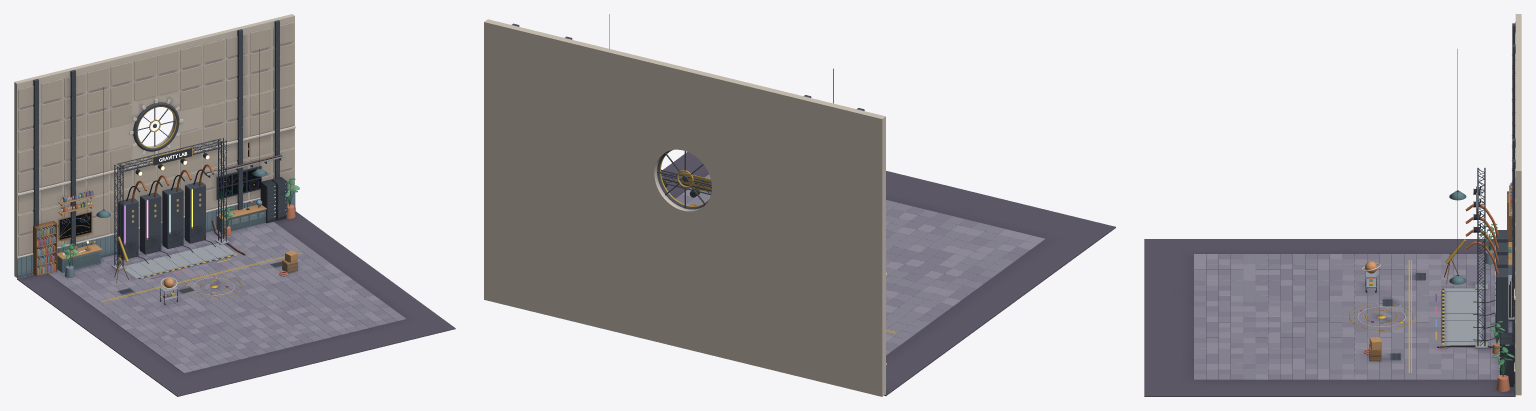
The model's file is gravity-lab.glb.
The picture shows the model from 3 angles, left to right: view 1: azimuth 30°, elevation 25°; view 2: azimuth 150°, elevation 25°; view 3: azimuth 270°, elevation 25°; orthographic projection. The views are drawn at different scales.
Parts seen in each view (by area): view 1: set_plaster_dk, set_tile_a, set_grout, set_plaster, set_steel_dk, set_tile_b, set_tile_c, set_steel, set_iron, set_panel, set_trim, set_wood (+6 smaller); view 2: set_plaster, set_grout, set_tile_a, set_tile_b, set_tile_c, set_steel_dk; view 3: set_grout, set_tile_a, set_tile_b, set_tile_c, set_steel_dk, set_plaster, set_steel, set_iron, set_copper, set_wood, set_leaf_dk, set_cable (+1 smaller).
Boxes of the visible parts, x1,y1,x2,y2 form: set_plaster_dk: (18, 22, 294, 255); set_tile_a: (50, 221, 405, 366); set_grout: (17, 211, 455, 396); set_plaster: (14, 14, 294, 277); set_steel_dk: (33, 20, 286, 304); set_tile_b: (47, 225, 396, 365); set_tile_c: (57, 225, 381, 373); set_steel: (35, 38, 284, 300); set_iron: (119, 148, 287, 293); set_panel: (17, 191, 295, 297); set_trim: (17, 98, 295, 288); set_wood: (33, 206, 297, 283); set_plaster: (484, 19, 885, 396); set_grout: (661, 152, 1115, 395); set_tile_a: (687, 174, 1024, 355); set_tile_b: (675, 194, 1029, 351); set_tile_c: (681, 189, 1045, 342); set_steel_dk: (512, 23, 864, 209); set_grout: (1144, 239, 1515, 396); set_tile_a: (1193, 254, 1512, 380); set_tile_b: (1193, 254, 1512, 380); set_tile_c: (1193, 254, 1499, 380); set_steel_dk: (1365, 23, 1515, 374); set_plaster: (1515, 14, 1521, 395); set_steel: (1365, 68, 1514, 348); set_iron: (1383, 186, 1514, 386); set_copper: (1465, 204, 1498, 273); set_wood: (1369, 191, 1512, 361); set_leaf_dk: (1481, 225, 1512, 376); set_cable: (1457, 49, 1510, 340).
Size of the model in its own units: 18 by 12.09 by 18.3.
67 materials, 8 textured.
